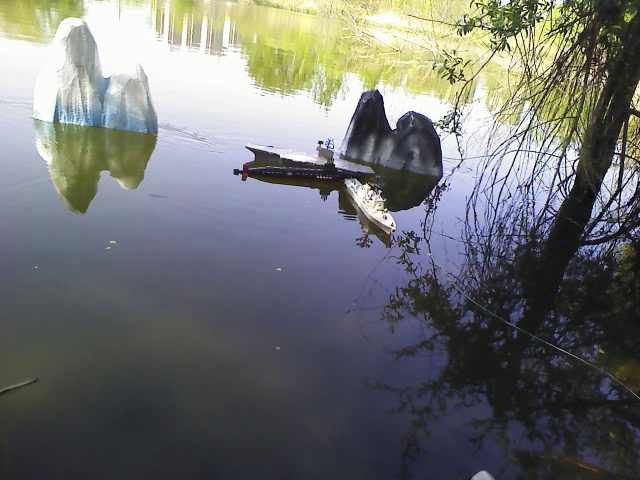aircraft_carrier: (243, 138, 374, 175)
iceberg: (32, 14, 165, 138)
rock: (343, 90, 452, 177)
submarine: (231, 165, 357, 189)
warship: (346, 177, 402, 232)
